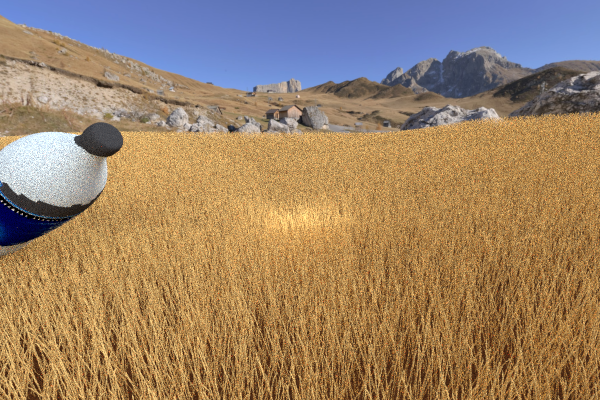Plastic Bottle: (0, 122, 123, 264)
